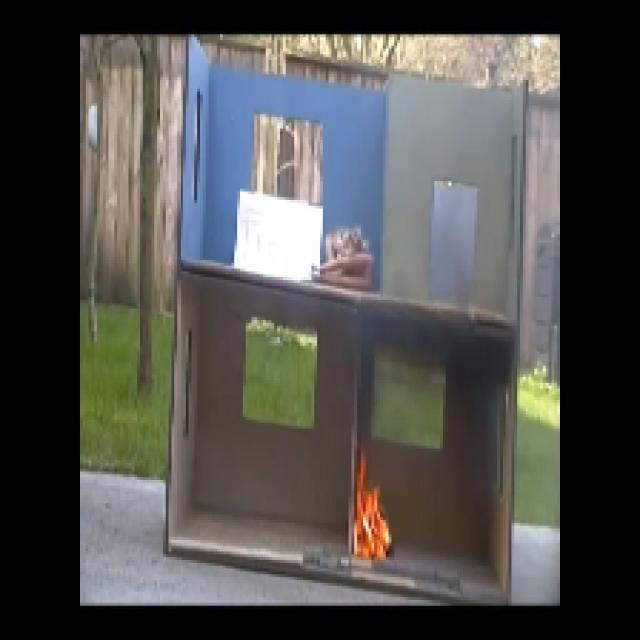Fire: (351, 460, 392, 557)
Smoke: (446, 332, 499, 389)
